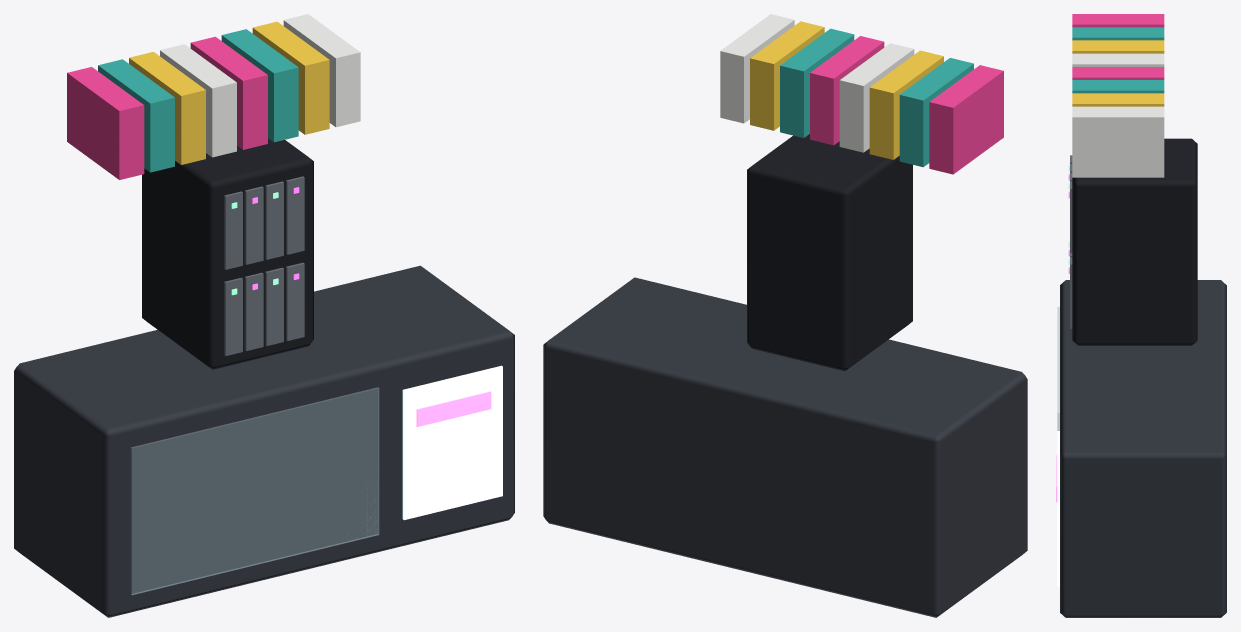
The model's file is station_transport_ausstattung_2_3.glb.
3 renders of one model, left to right at view 1: azimuth 30°, elevation 25°; view 2: azimuth 150°, elevation 25°; view 3: azimuth 270°, elevation 25°, orthographic. The views are drawn at different scales.
Visible parts, largest first — view 1: station_transport_ausstattung_2_3; view 2: station_transport_ausstattung_2_3; view 3: station_transport_ausstattung_2_3.
Part boxes in pixels (x1,y1,x2,y2): station_transport_ausstattung_2_3: (14, 14, 514, 617); station_transport_ausstattung_2_3: (543, 14, 1027, 617); station_transport_ausstattung_2_3: (1056, 14, 1226, 617).
Size of the model in its own units: 1 by 1.16 by 0.409.
